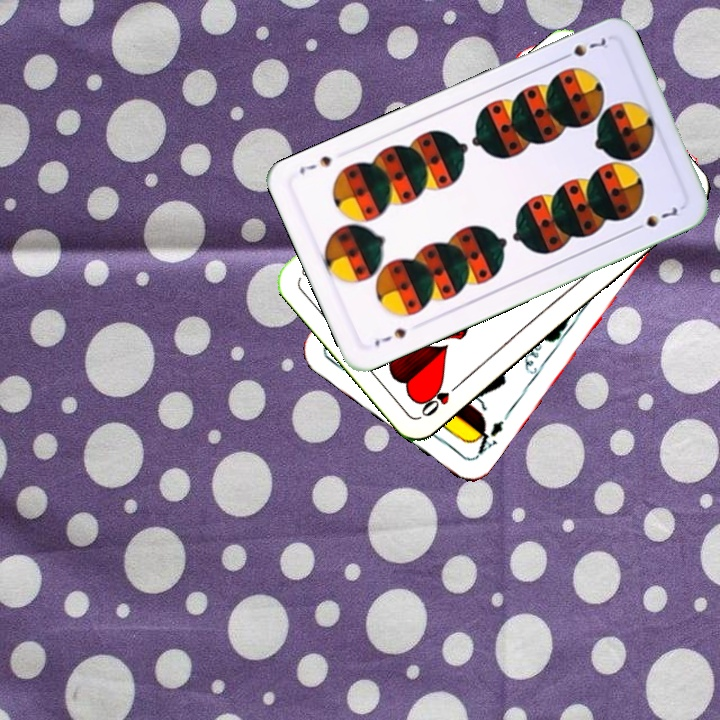EA: (467, 408, 513, 460)
HO: (417, 376, 466, 420)
S7: (555, 33, 611, 63), (370, 324, 409, 350)
